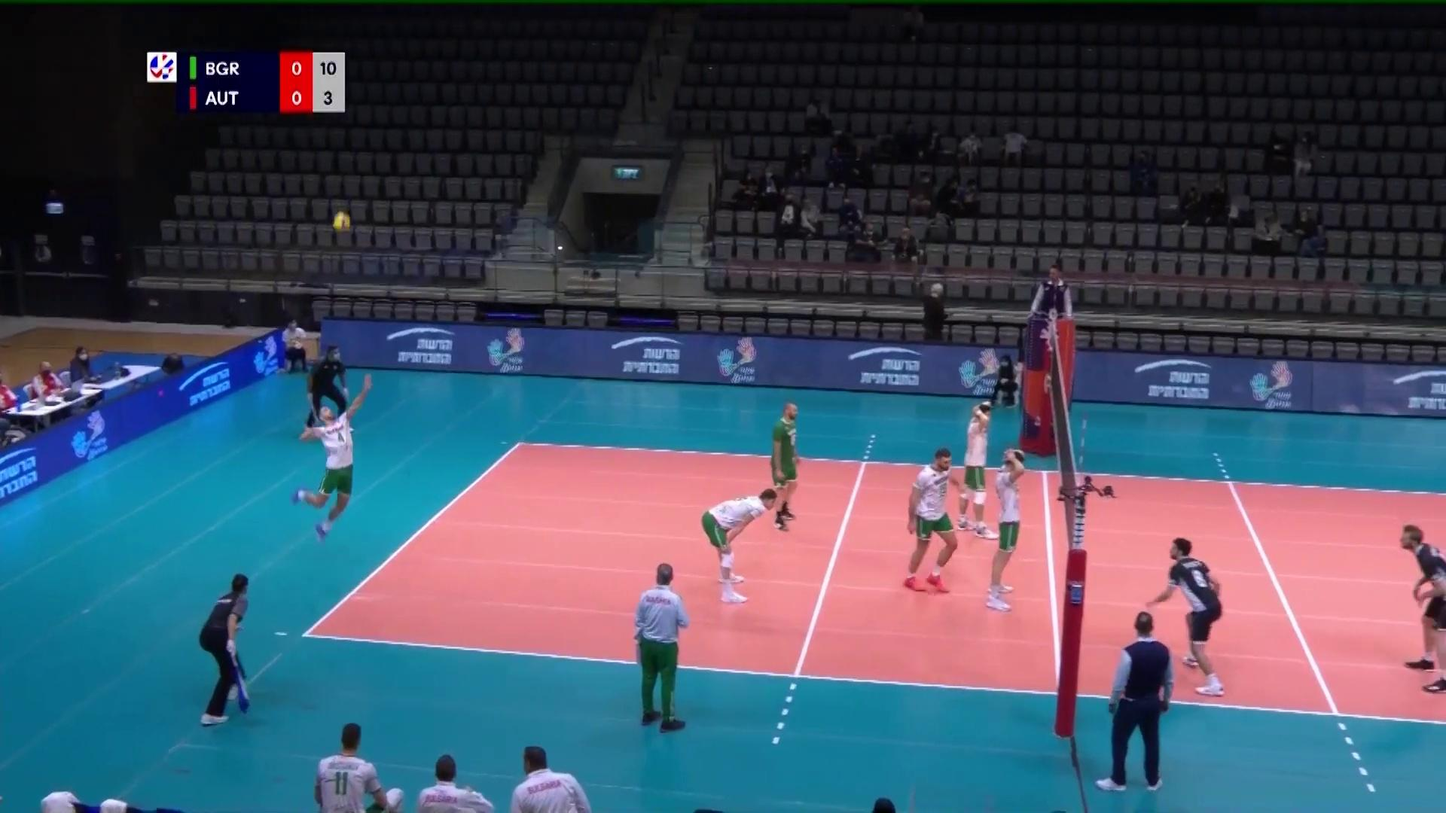ball: (331, 211, 352, 233)
